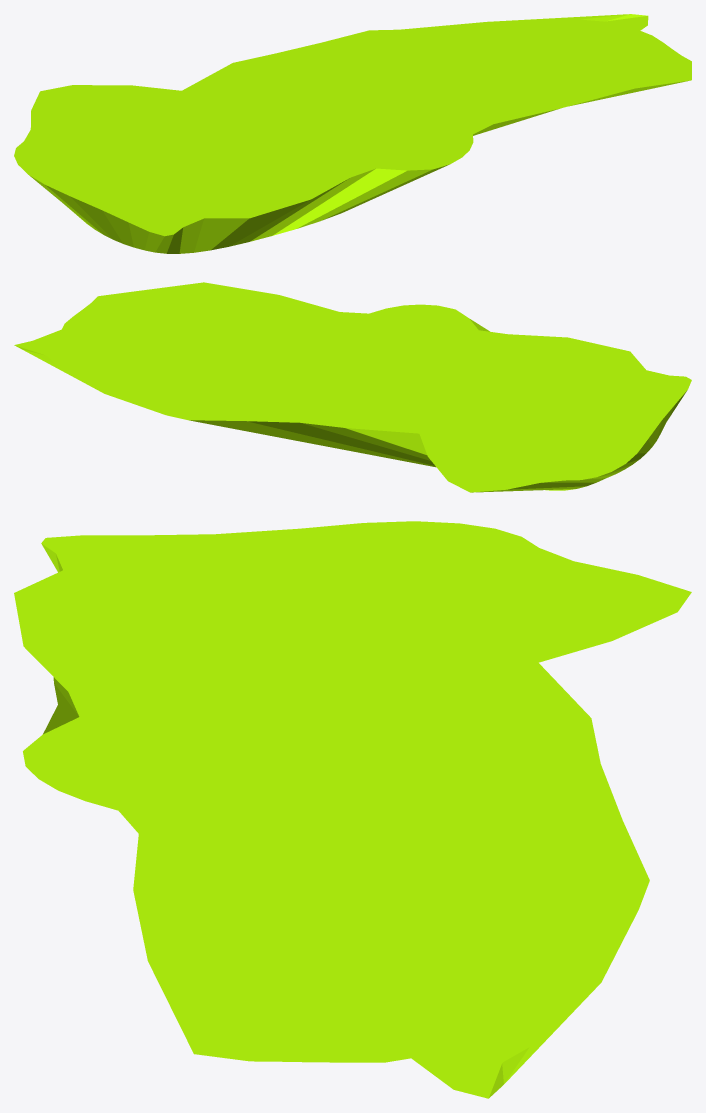
The model's file is Goo fbx.fbx.
3 renders of one model, top to bottom at view 1: azimuth 30°, elevation 25°; view 2: azimuth 150°, elevation 25°; view 3: azimuth 270°, elevation 25°, orthographic. The views are drawn at different scales.
Visible parts, largest first — view 1: Goo; view 2: Goo; view 3: Goo.
Boxes of the visible parts, x1,y1,x2,y2 form: Goo: (14,14,691,253); Goo: (14,282,691,492); Goo: (14,521,691,1098).
Bounding box in the file's own units: 577 × 39.69 × 298.
